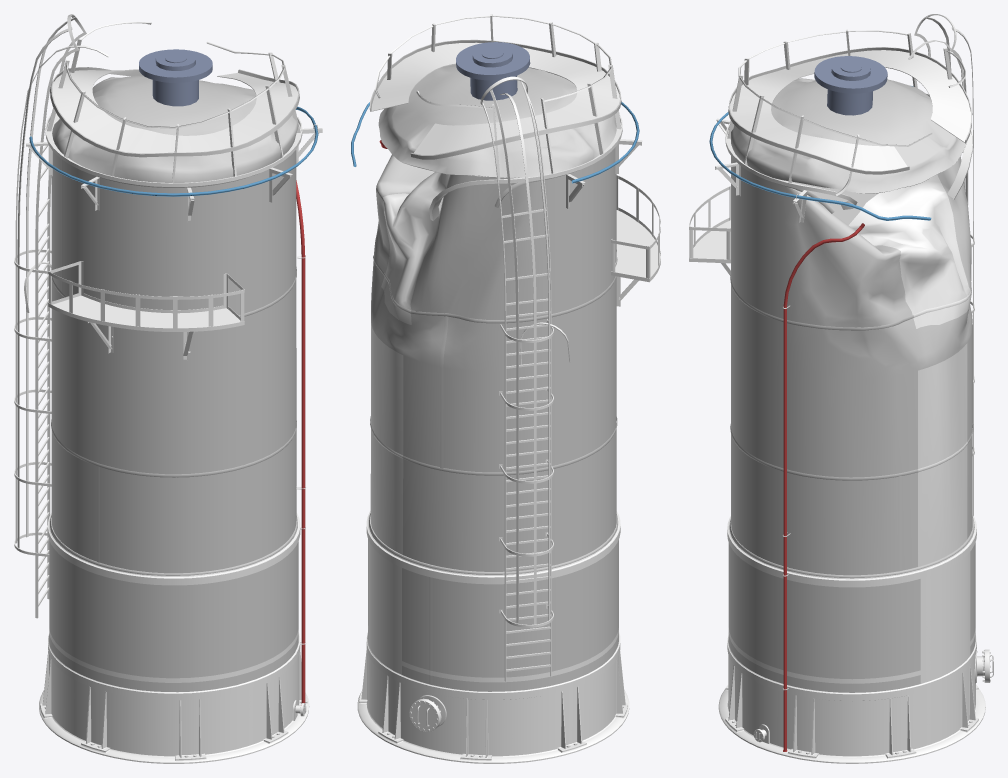
The picture shows the model from 3 angles, left to right: view 1: azimuth 30°, elevation 25°; view 2: azimuth 150°, elevation 25°; view 3: azimuth 270°, elevation 25°; orthographic projection.
Parts seen in each view (by area): view 1: SM_H_Industrial_Mechanical_MetalSilo_03_Ruin_a; view 2: SM_H_Industrial_Mechanical_MetalSilo_03_Ruin_a; view 3: SM_H_Industrial_Mechanical_MetalSilo_03_Ruin_a.
Boxes of the visible parts, left/top/right/bottom form: SM_H_Industrial_Mechanical_MetalSilo_03_Ruin_a: left=14, top=14, right=322, bottom=763; SM_H_Industrial_Mechanical_MetalSilo_03_Ruin_a: left=351, top=14, right=660, bottom=763; SM_H_Industrial_Mechanical_MetalSilo_03_Ruin_a: left=689, top=14, right=993, bottom=763.
Size of the model in its own units: 271 by 269 by 652.
